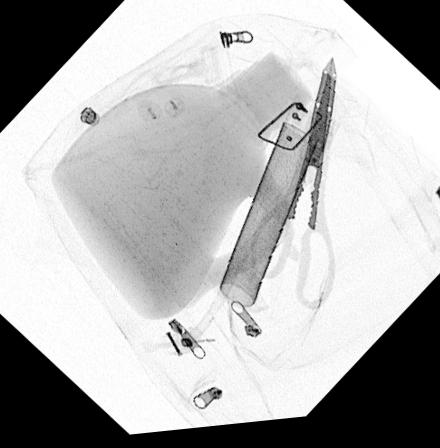Scissors: (243, 60, 338, 317)
